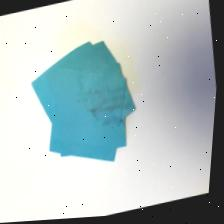paper: (24, 37, 149, 186)
